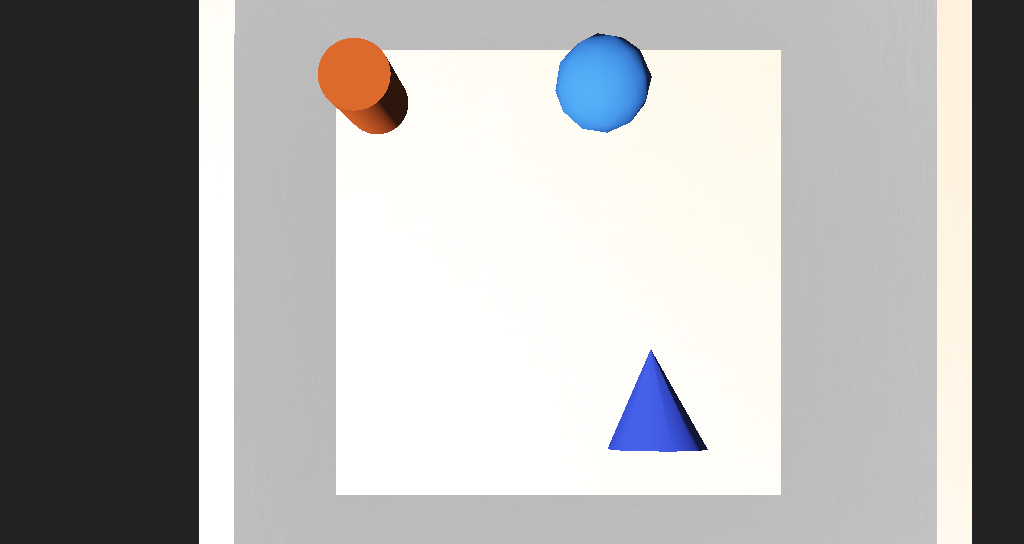cone: (347, 162, 408, 200)
cylinder: (532, 298, 600, 360)
sphere: (499, 160, 566, 203)
